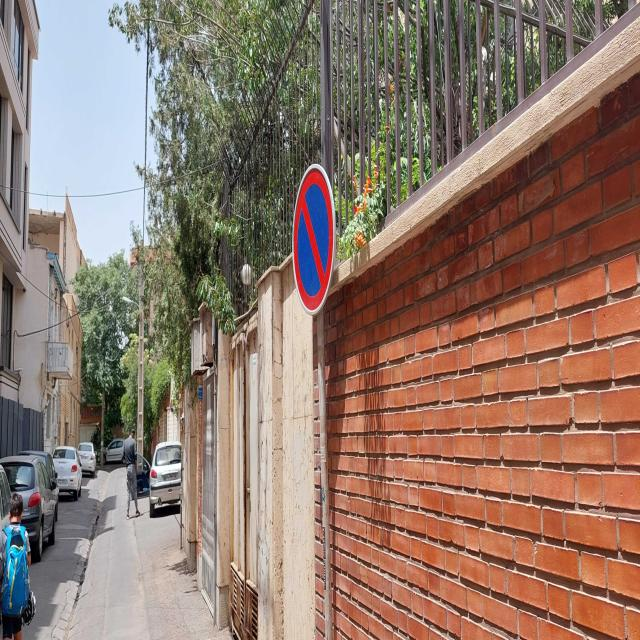forb_stopping: (292, 163, 335, 312)
